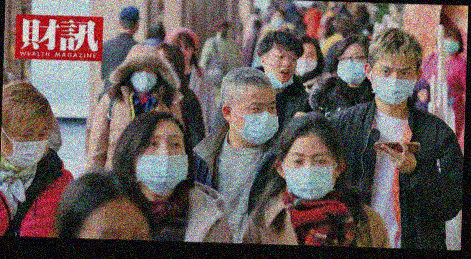mask_weared_incorrect: (264, 50, 296, 86)
with_mask: (134, 130, 188, 197), (282, 148, 337, 201), (234, 96, 279, 147), (369, 63, 416, 106), (6, 122, 47, 169), (336, 48, 366, 83), (129, 64, 158, 92), (294, 49, 318, 77), (442, 33, 460, 57)
without_mask: (173, 40, 195, 60)
